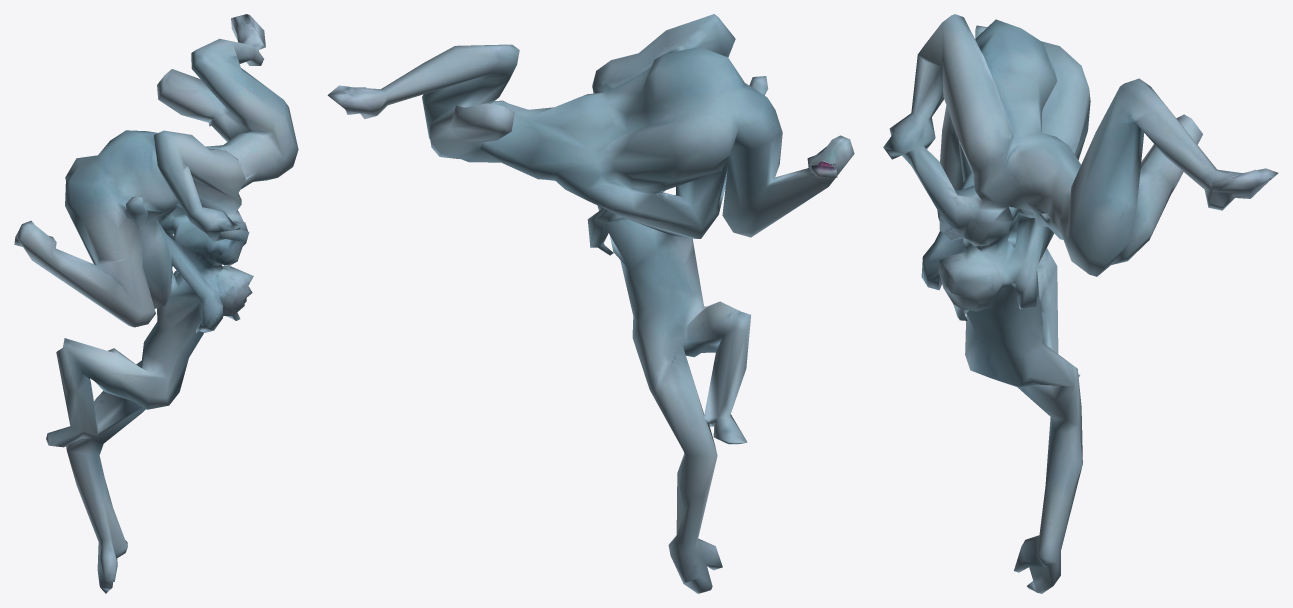
3 renders of one model, left to right at view 1: azimuth 30°, elevation 25°; view 2: azimuth 150°, elevation 25°; view 3: azimuth 270°, elevation 25°, orthographic. The views are drawn at different scales.
Parts seen in each view (by area): view 1: tripo_part_2; view 2: tripo_part_2; view 3: tripo_part_2.
Boxes of the visible parts, x1,y1,x2,y2 form: tripo_part_2: (14, 14, 298, 593); tripo_part_2: (327, 14, 854, 593); tripo_part_2: (883, 14, 1278, 593).
Bounding box in the file's own units: 0.3459 × 0.4568 × 0.2762.
Materials: 1 (1 with a texture image).
